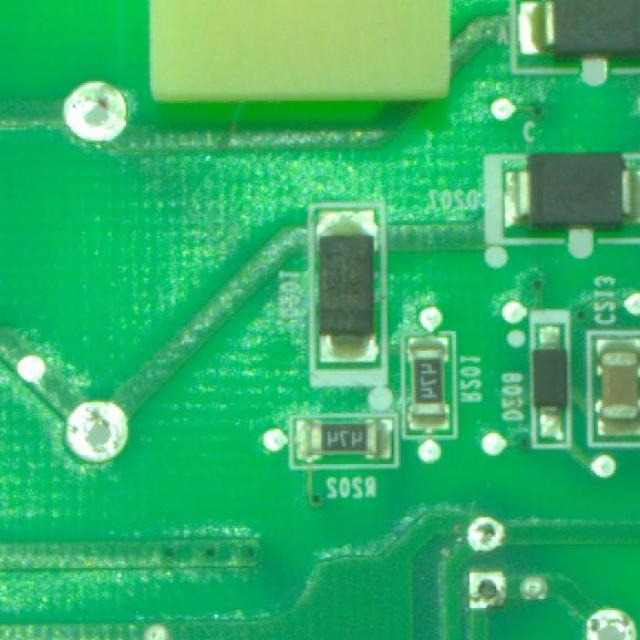Insufficient solder: (55, 393, 135, 467), (51, 78, 134, 140), (581, 602, 639, 640), (463, 511, 506, 556), (466, 570, 507, 615)
